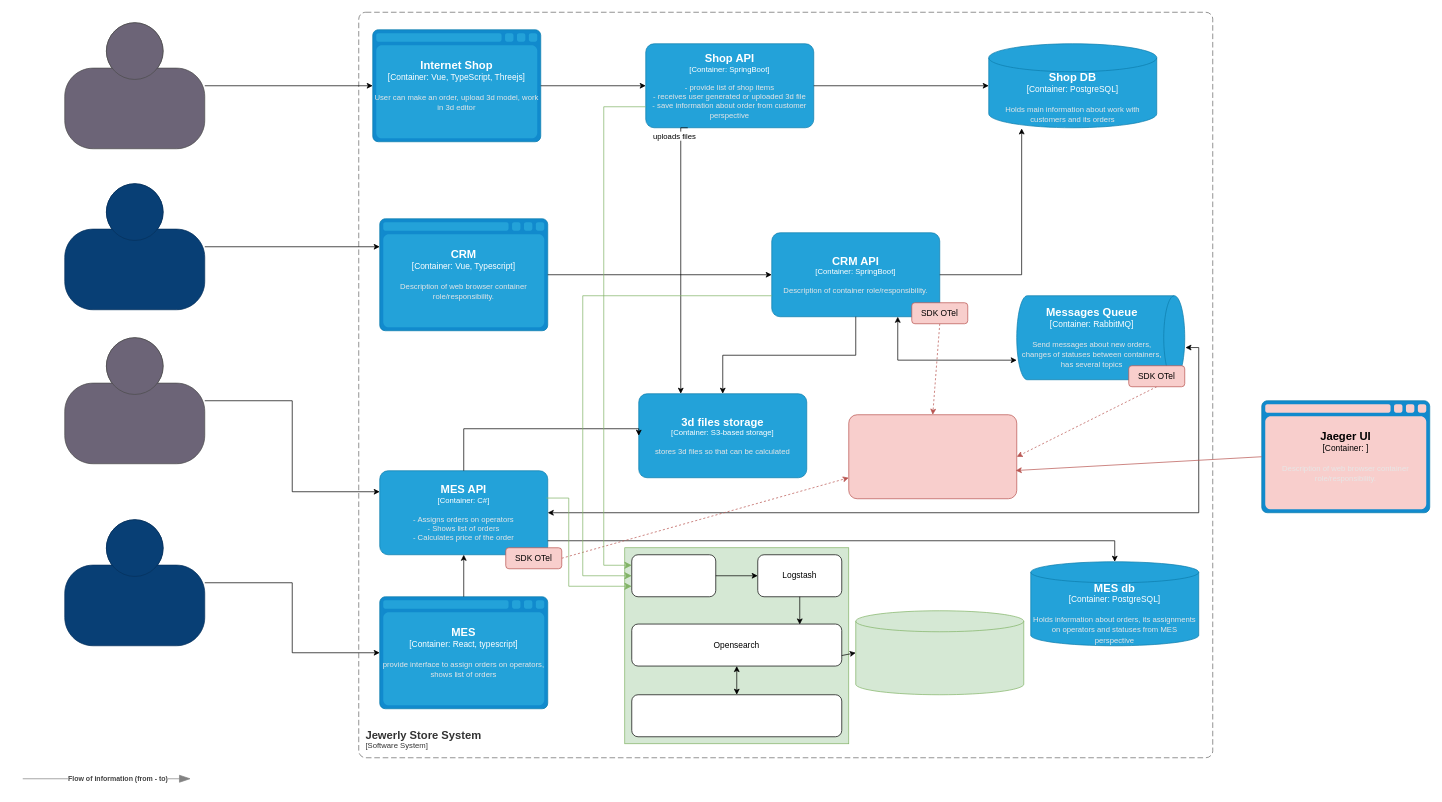
Some shapes in this 1442 by 802 pixel diagram are drawn without their labels. Here are the shapes that lost their labels. From the top down, the centre of each, then its label:
At point 134,85: "Customer [Person] Description of external person.".
At point 134,246: "Seller [Person] Operates with order, confirms manufacturing for the user".
At point 134,400: "API user [Person] Description of external person.".
At point 932,456: "Jaerger [Container: ] Description of container role/responsibility.".
At point 134,582: "Operator [Person] Takes order in work, manufactures jewerly".
At point 673,575: "Filebeat".
At point 939,652: "ELK db [Container: InfluxDB] Holds log data".
At point 736,715: "Opensearch Dashboards".
